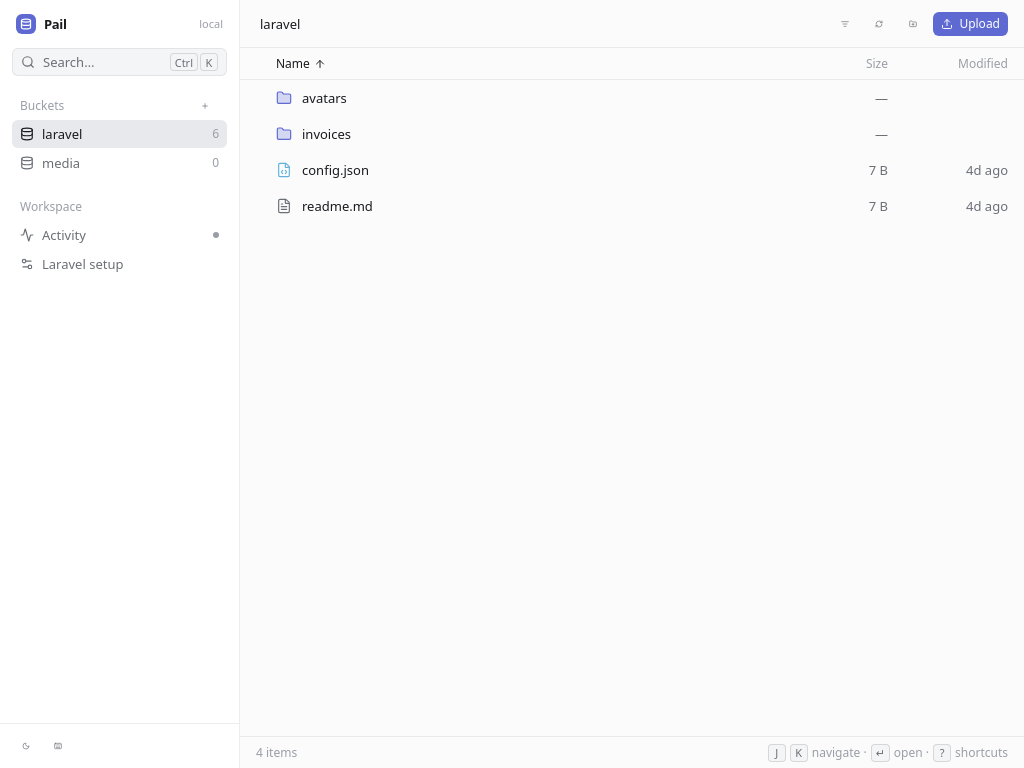
Test: BucketView › previews a file with details, and closes with Escape
This screenshot has width=1024, height=768.
Click the text "config.json" at (335, 170), box [302,160,369,180]
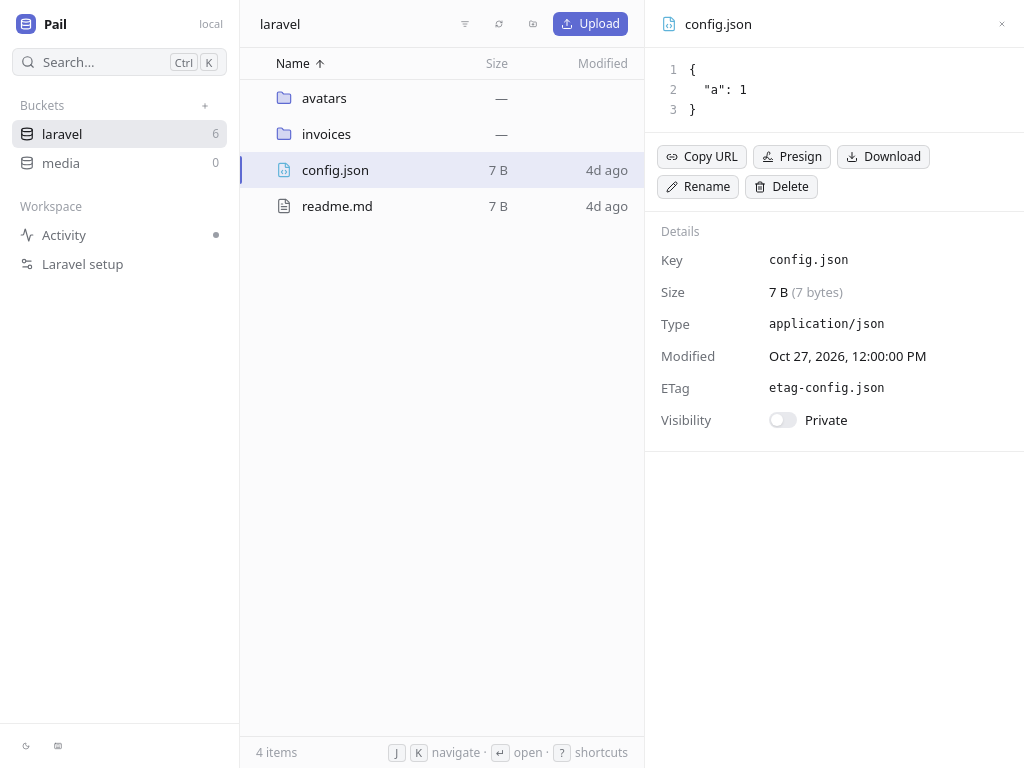
Expected: the text "\"a\": 1" is shown, [689,80,747,100]
Expected: the text "application/json" is shown, [769,317,885,331]
Press Escape
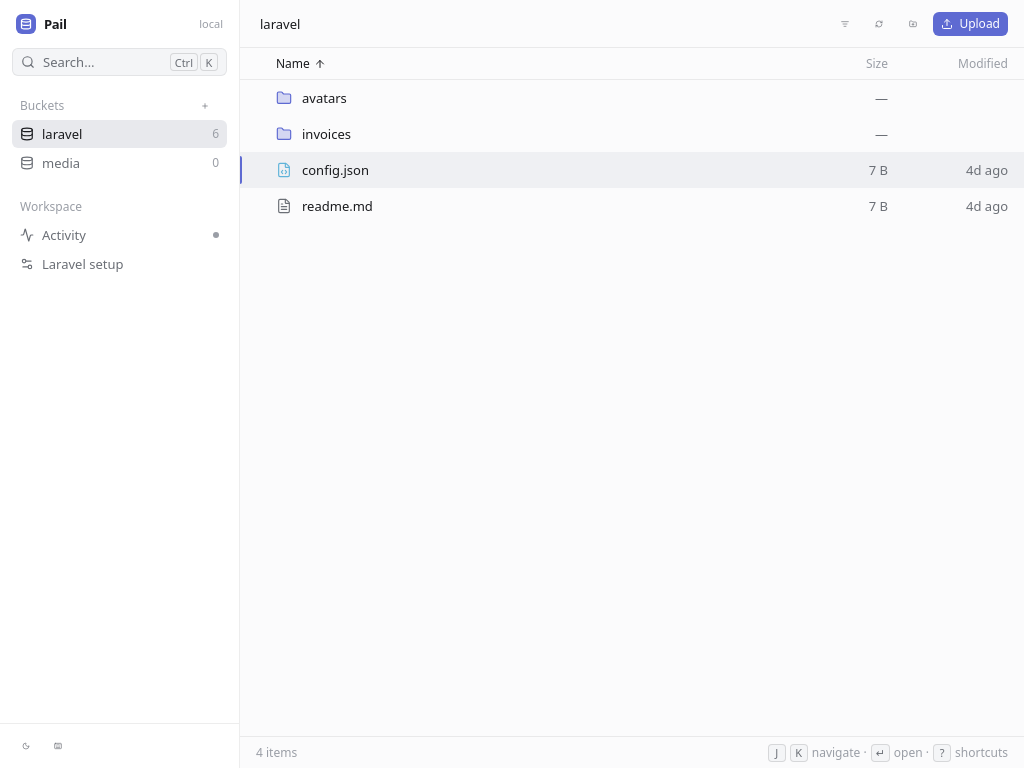
Expected: the button "Preview" is gone
